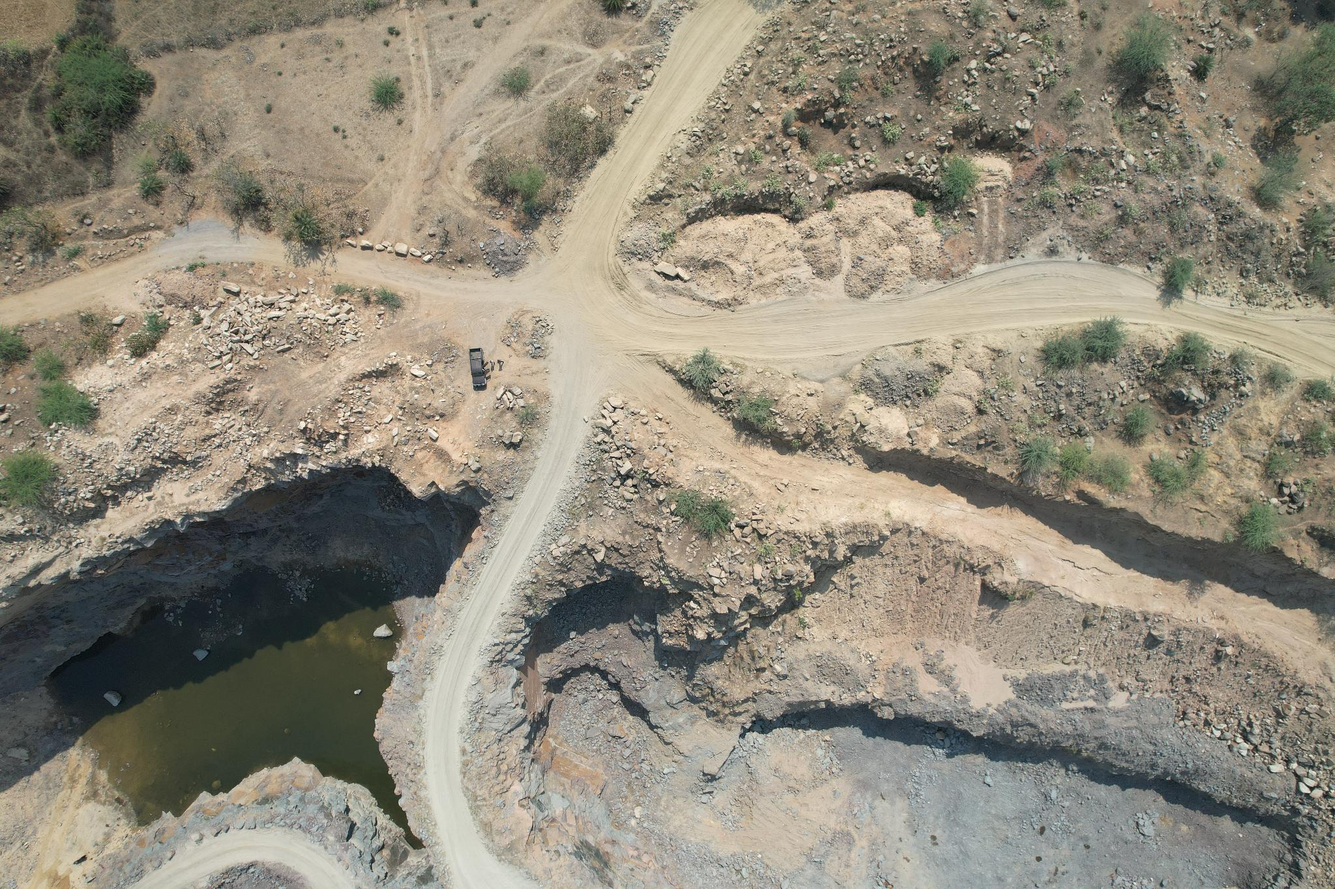benches: (0, 0, 1334, 888)
truck: (469, 348, 489, 390)
